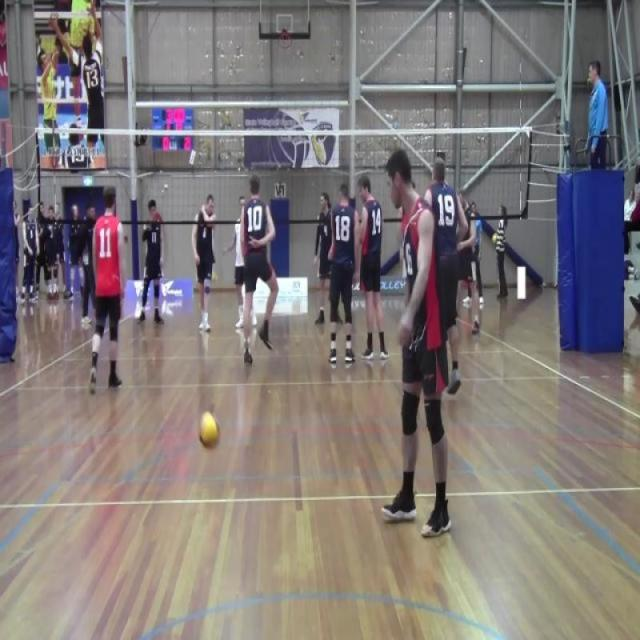volleyball: (194, 407, 223, 456), (210, 270, 218, 285), (492, 231, 498, 245)
